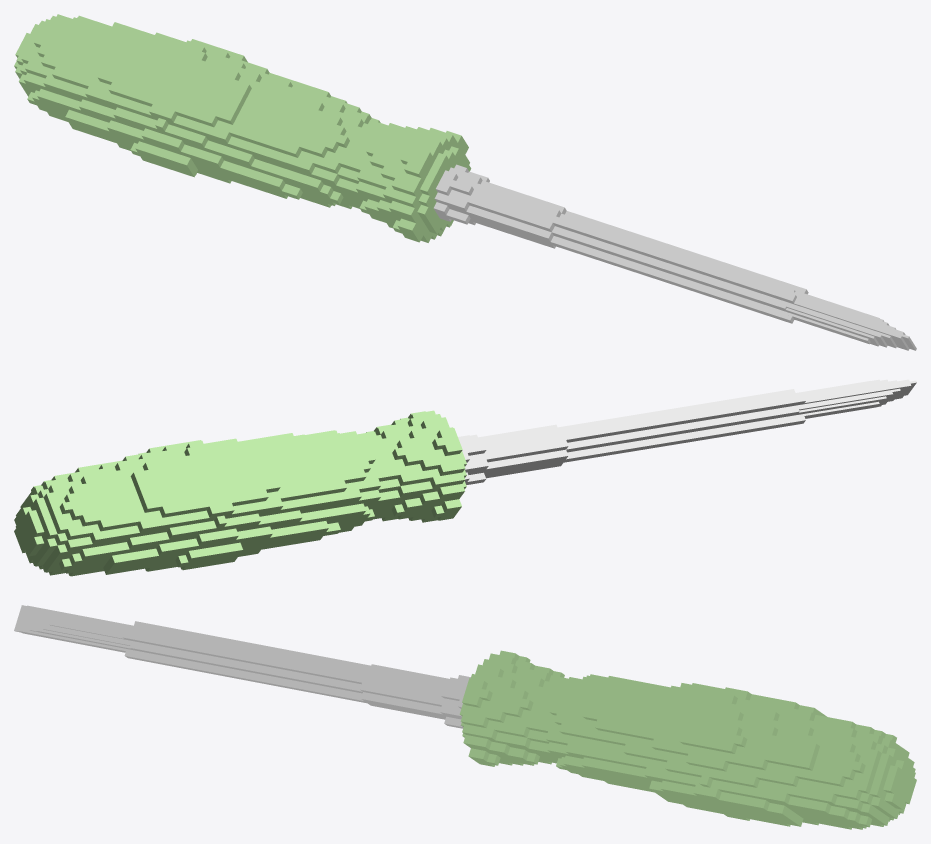
File: Scru.fbx
3 views of the same model, one above another, from view 1: azimuth 90°, elevation 25°; view 2: azimuth 150°, elevation 25°; view 3: azimuth 270°, elevation 25° (orthographic). The views are drawn at different scales.
Visible parts, largest first — view 1: Base_LP, Neck_LP, Tip_LP; view 2: Base_LP, Neck_LP, Tip_LP; view 3: Base_LP, Neck_LP, Tip_LP.
Boxes of the visible parts, <box> form: Base_LP: <box>14,14,471,242</box>; Neck_LP: <box>433,164,808,323</box>; Tip_LP: <box>785,291,916,350</box>; Base_LP: <box>14,410,466,576</box>; Neck_LP: <box>458,389,805,484</box>; Tip_LP: <box>792,379,916,418</box>; Base_LP: <box>459,650,916,829</box>; Neck_LP: <box>122,621,470,728</box>; Tip_LP: <box>14,605,140,652</box>.
Size of the model in its own units: 244 by 60.68 by 381.
